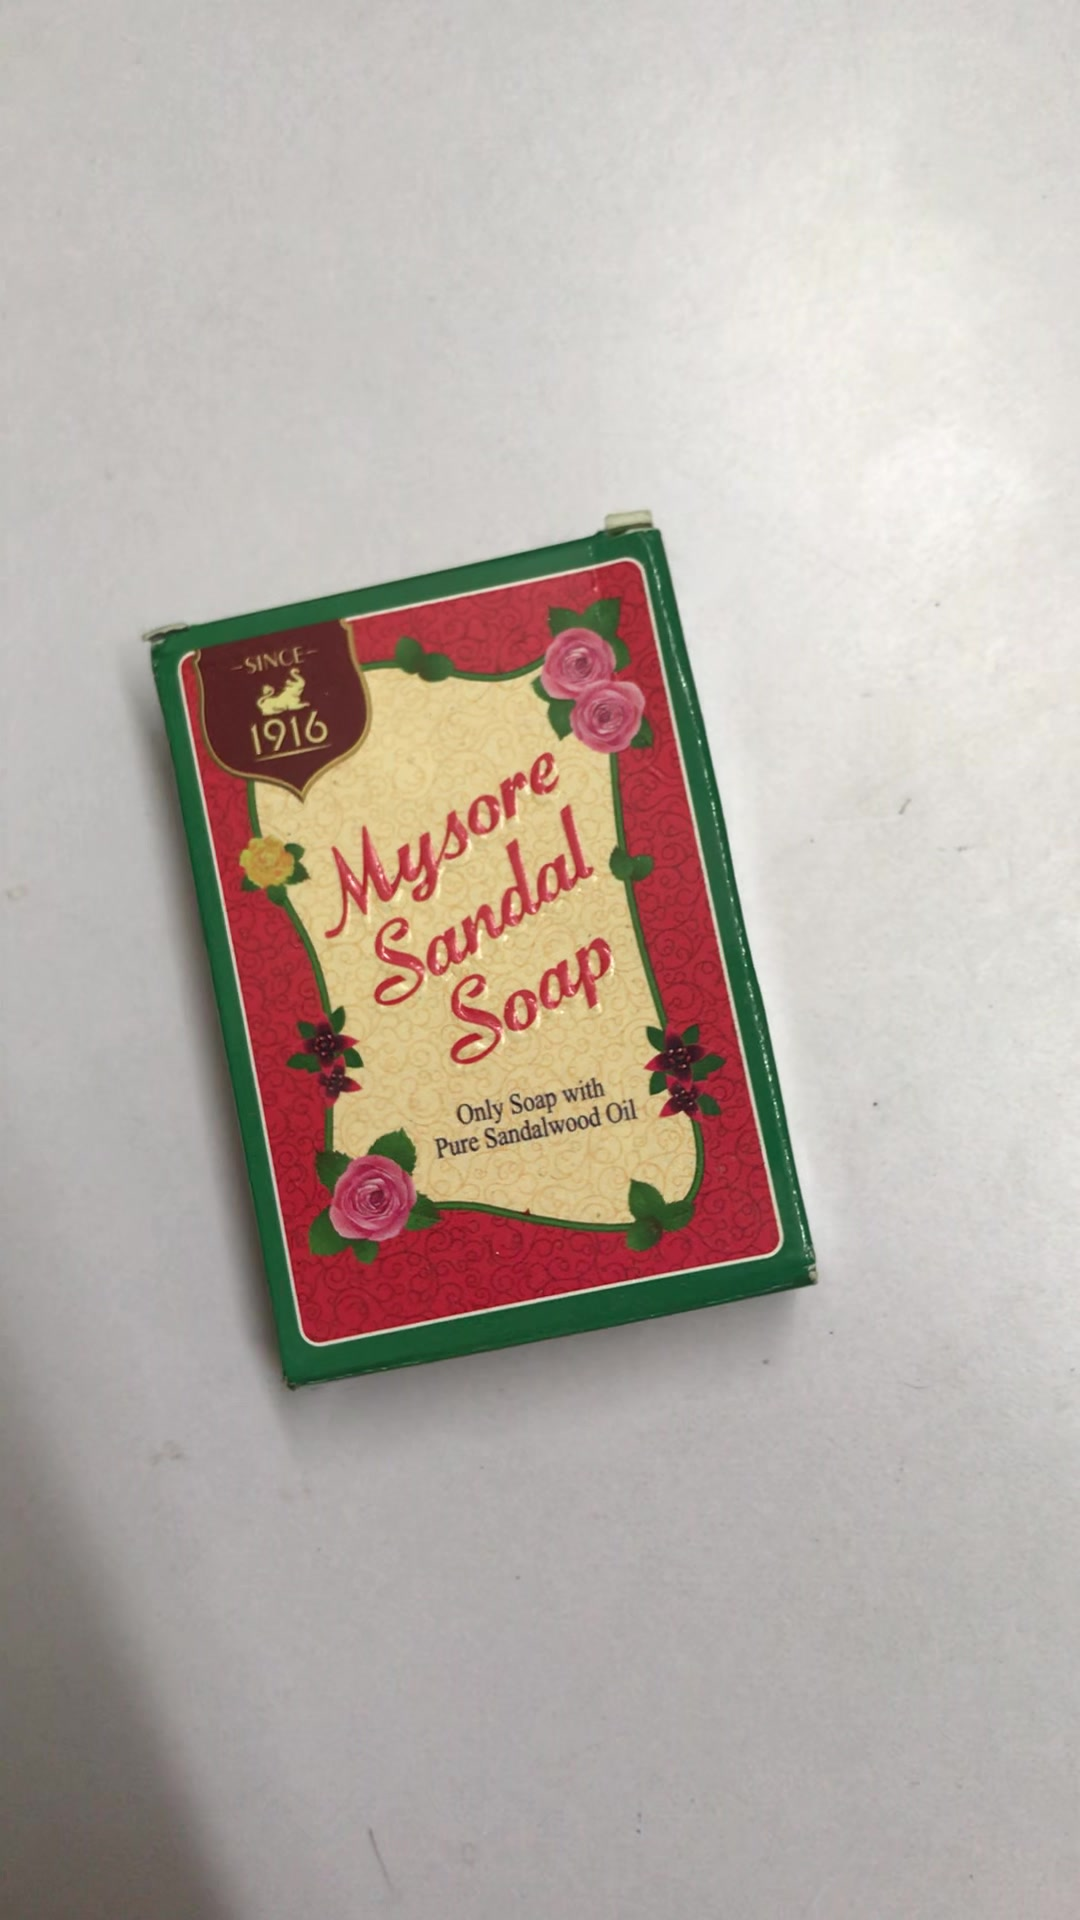mysore sandal soap: (160, 529, 828, 1389)
